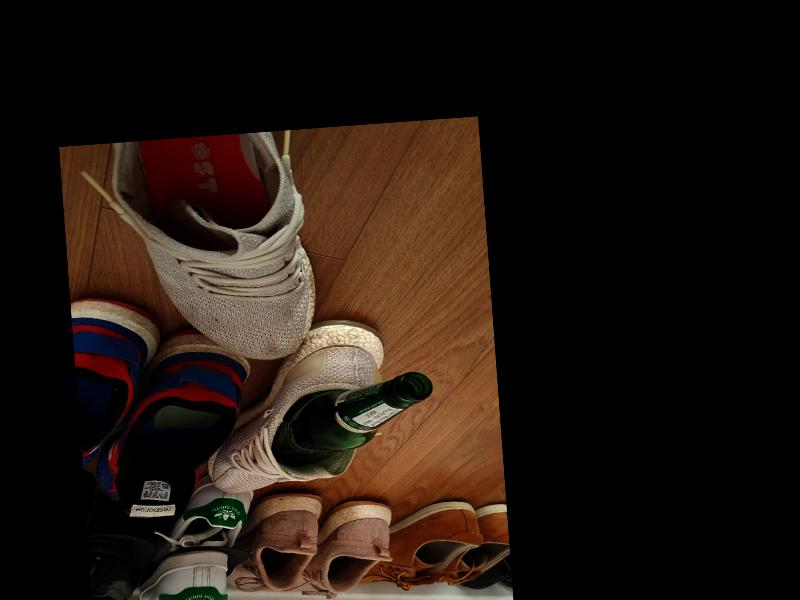Beer: (265, 370, 437, 471)
